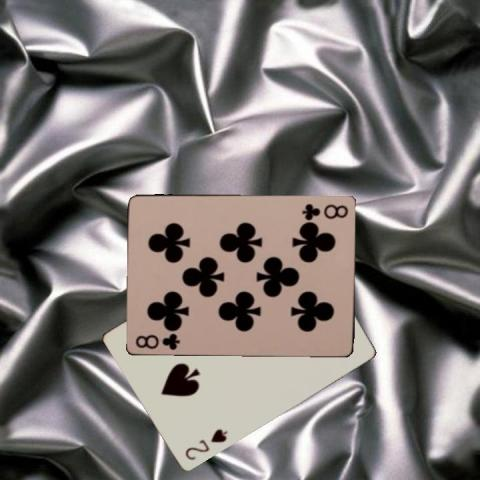2s: (182, 426, 229, 462)
8c: (133, 331, 181, 351), (300, 201, 350, 219)
